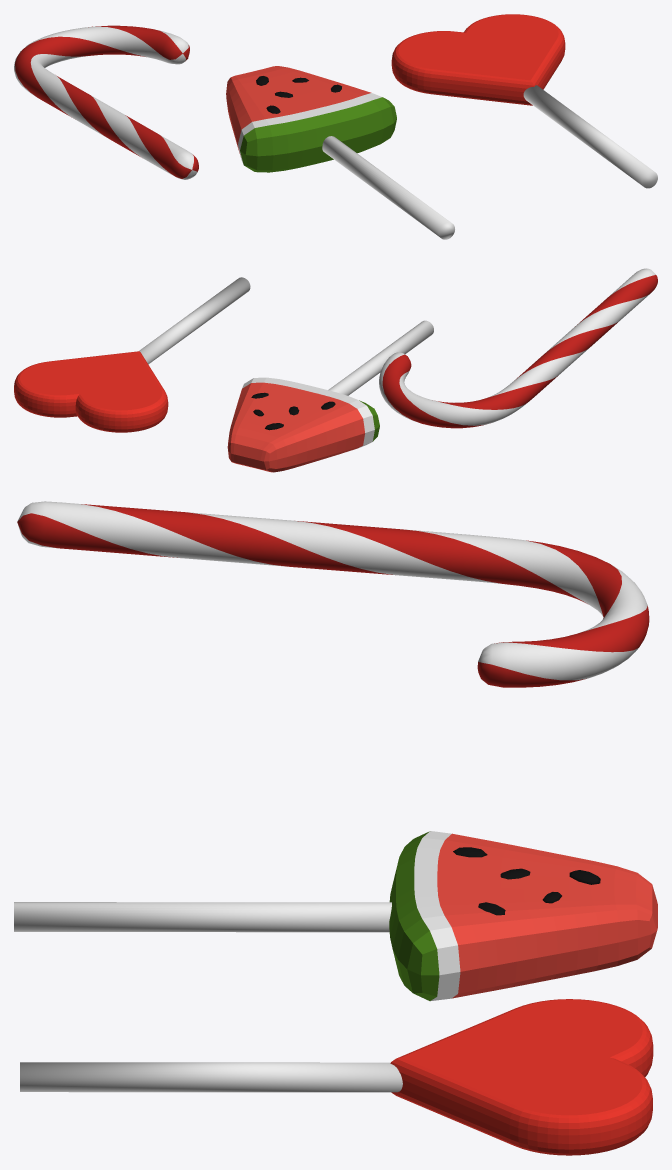
The model's file is lolliextra.fbx.
3 renders of one model, top to bottom at view 1: azimuth 30°, elevation 25°; view 2: azimuth 150°, elevation 25°; view 3: azimuth 270°, elevation 25°, orthographic. The views are drawn at different scales.
Parts seen in each view (by area): view 1: melonlolly, heartlolly, LOLLYPOPPY; view 2: melonlolly, heartlolly, LOLLYPOPPY; view 3: melonlolly, heartlolly, LOLLYPOPPY.
Part boxes in pixels (left/top/right/bottom): melonlolly: left=226, top=66, right=454, bottom=239; heartlolly: left=391, top=14, right=657, bottom=188; LOLLYPOPPY: left=14, top=25, right=198, bottom=179; melonlolly: left=227, top=320, right=433, bottom=472; heartlolly: left=14, top=277, right=250, bottom=432; LOLLYPOPPY: left=379, top=268, right=657, bottom=428; melonlolly: left=14, top=831, right=657, bottom=1001; heartlolly: left=20, top=999, right=653, bottom=1155; LOLLYPOPPY: left=17, top=501, right=649, bottom=687.
Bounding box in the file's own units: 704 × 192 × 445.
